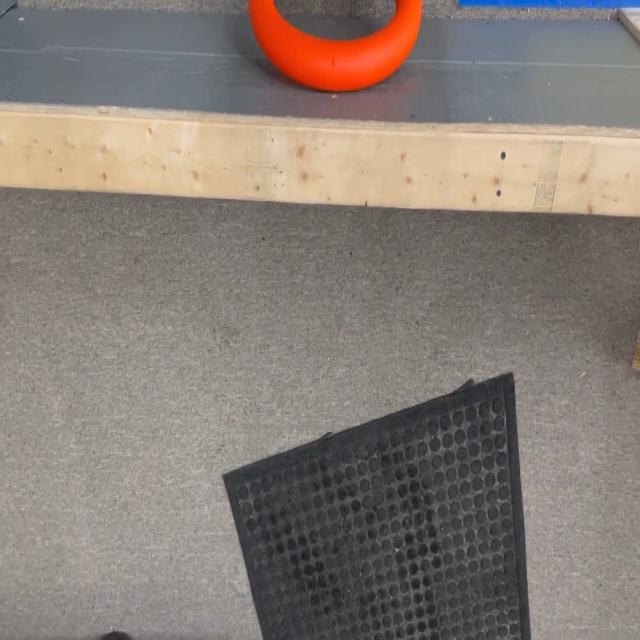note: (239, 0, 424, 87)
